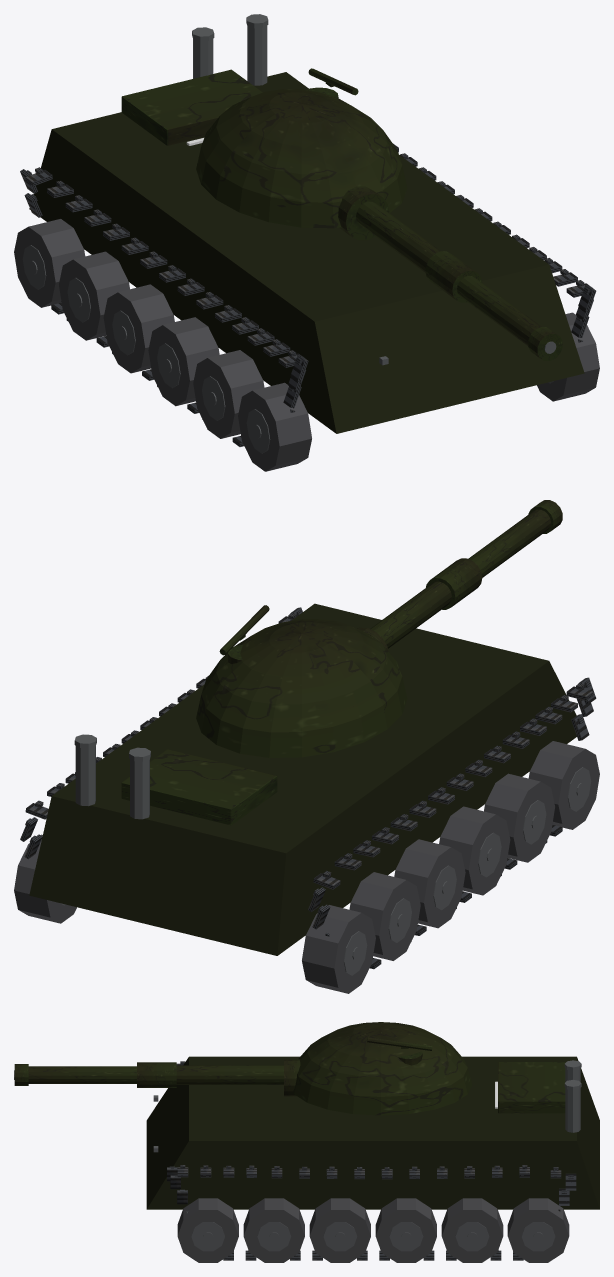
File: bulwark_LOD1.glb
3 renders of one model, top to bottom at view 1: azimuth 30°, elevation 25°; view 2: azimuth 150°, elevation 25°; view 3: azimuth 270°, elevation 25°, orthographic. The views are drawn at different scales.
Visible parts, largest first — view 1: HullMesh, Wheels_L, TurretMesh, TrackL, Gun_tube2, Gun_tube1, TrackR, Wheels_R, Gun_ext, exh1, exh-1, Gun_brk; view 2: HullMesh, Wheels_L, TurretMesh, TrackL, Gun_tube1, Gun_tube2, Wheels_R, TrackR, Gun_ext, exh1, exh-1; view 3: HullMesh, Wheels_R, TurretMesh, TrackR, Gun_tube1, Gun_tube2, Gun_ext, exh1.
Boxes of the visible parts, left/top/right/bottom form: HullMesh: left=29, top=69, right=584, bottom=433; Wheels_L: left=14, top=219, right=311, bottom=471; TurretMesh: left=196, top=68, right=407, bottom=240; TrackL: left=20, top=167, right=308, bottom=446; Gun_tube2: left=457, top=276, right=560, bottom=358; Gun_tube1: left=356, top=201, right=440, bottom=272; TrackR: left=393, top=143, right=596, bottom=342; Wheels_R: left=537, top=312, right=599, bottom=401; Gun_ext: left=425, top=251, right=482, bottom=302; exh1: left=247, top=25, right=267, bottom=85; exh-1: left=193, top=39, right=213, bottom=78; Gun_brk: left=528, top=327, right=562, bottom=360; HullMesh: left=29, top=603, right=576, bottom=955; Wheels_L: left=302, top=741, right=599, bottom=993; TurretMesh: left=196, top=605, right=407, bottom=757; TrackL: left=308, top=677, right=596, bottom=969; Gun_tube1: left=370, top=581, right=451, bottom=648; Gun_tube2: left=468, top=509, right=550, bottom=577; Wheels_R: left=14, top=834, right=76, bottom=923; TrackR: left=20, top=607, right=302, bottom=859; Gun_ext: left=426, top=558, right=482, bottom=609; exh1: left=75, top=746, right=95, bottom=806; exh-1: left=130, top=759, right=149, bottom=819; HullMesh: left=146, top=1056, right=599, bottom=1209; Wheels_R: left=177, top=1198, right=569, bottom=1262; TurretMesh: left=284, top=1022, right=472, bottom=1115; TrackR: left=167, top=1165, right=576, bottom=1260; Gun_tube1: left=176, top=1065, right=283, bottom=1084; Gun_tube2: left=28, top=1066, right=136, bottom=1083; Gun_ext: left=137, top=1062, right=176, bottom=1087; exh1: left=565, top=1088, right=580, bottom=1132.
Size of the model in its own units: 3.59 by 2.65 by 7.63.
5 materials, 3 textured.
